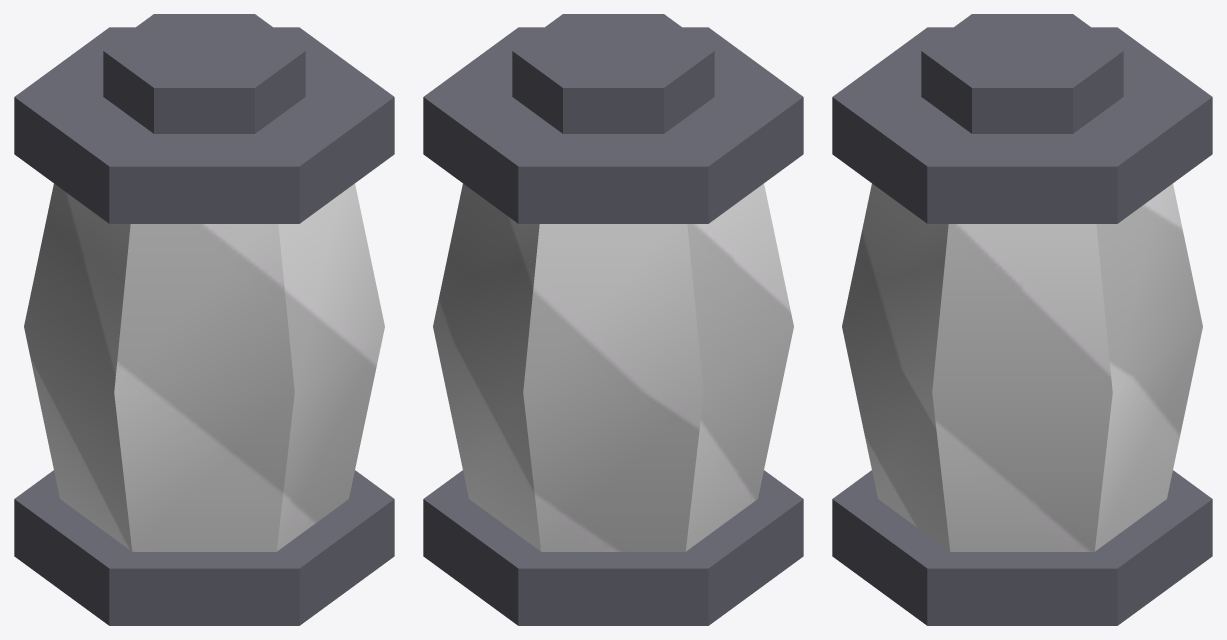
Rendered from Lantern.obj.
3 renders of one model, left to right at view 1: azimuth 30°, elevation 25°; view 2: azimuth 150°, elevation 25°; view 3: azimuth 270°, elevation 25°, orthographic.
Size of the model in its own units: 0.1897 by 0.3212 by 0.219.
Materials: 2 (1 with a texture image).
